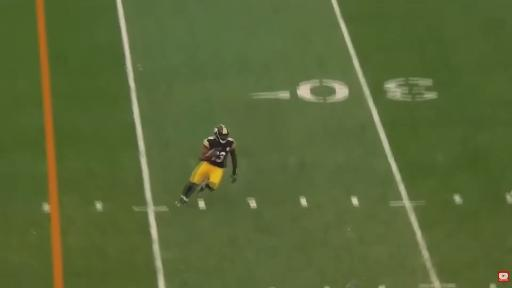Helmet: (214, 125, 229, 143)
Jersey: (204, 137, 235, 168)
Player: (176, 125, 237, 206)
